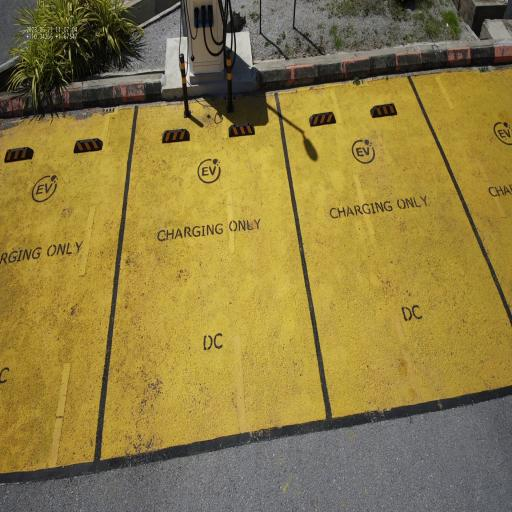Empty: (88, 62, 339, 486)
